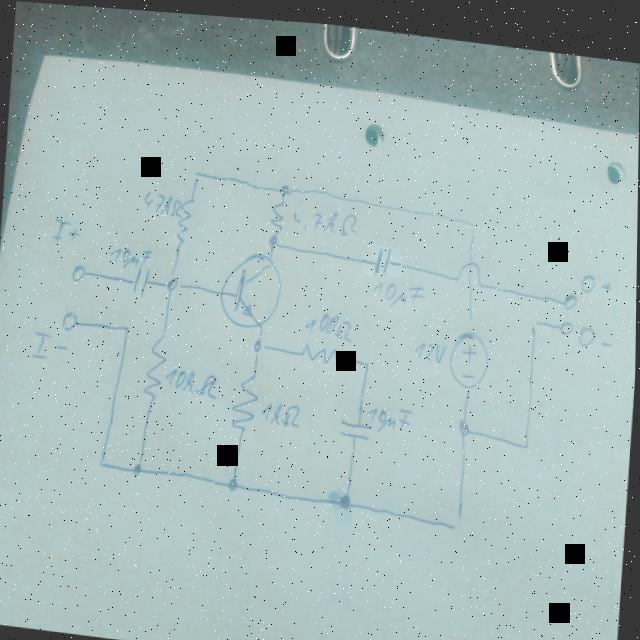capacitor: (339, 412, 374, 436), (133, 259, 151, 297), (373, 240, 392, 273)
crossover: (455, 251, 488, 283)
junction: (337, 487, 356, 507), (458, 411, 474, 433), (165, 272, 181, 294), (451, 508, 466, 530), (267, 229, 282, 249), (251, 332, 266, 352), (278, 176, 293, 194), (227, 471, 241, 490), (467, 210, 480, 228), (361, 350, 374, 368), (530, 310, 544, 326), (521, 427, 533, 445), (133, 460, 145, 478), (97, 455, 108, 469), (191, 167, 202, 180), (123, 321, 133, 335)
resistor: (230, 367, 263, 431), (142, 325, 170, 400), (299, 335, 343, 363), (175, 193, 197, 245), (270, 195, 288, 229)
source: (447, 322, 493, 384)
terminal: (62, 309, 81, 334), (70, 261, 89, 283), (562, 283, 580, 303), (559, 310, 576, 328)
text: (292, 201, 361, 233), (371, 273, 429, 308), (304, 304, 356, 340), (166, 363, 221, 397), (366, 398, 416, 432), (141, 184, 184, 217), (261, 395, 304, 426), (108, 242, 153, 271), (32, 330, 70, 362), (51, 214, 83, 246), (579, 315, 616, 342), (412, 333, 448, 359), (581, 264, 614, 290)
transistor: (217, 243, 285, 330)
